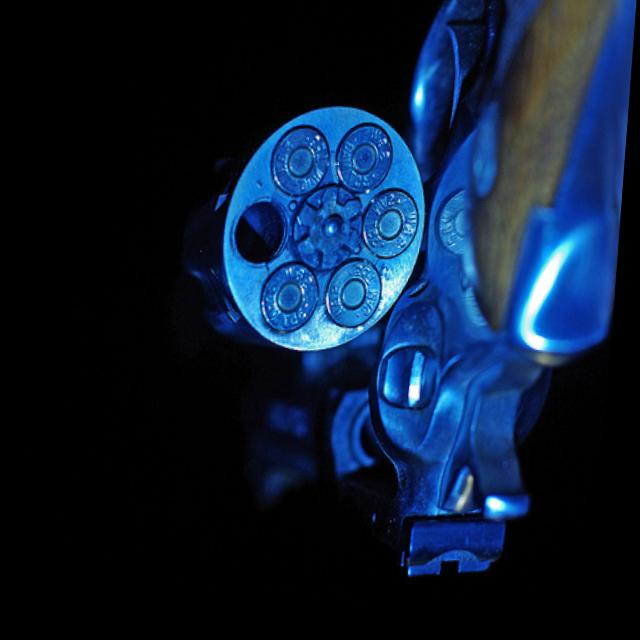handgun: (170, 0, 638, 602)
